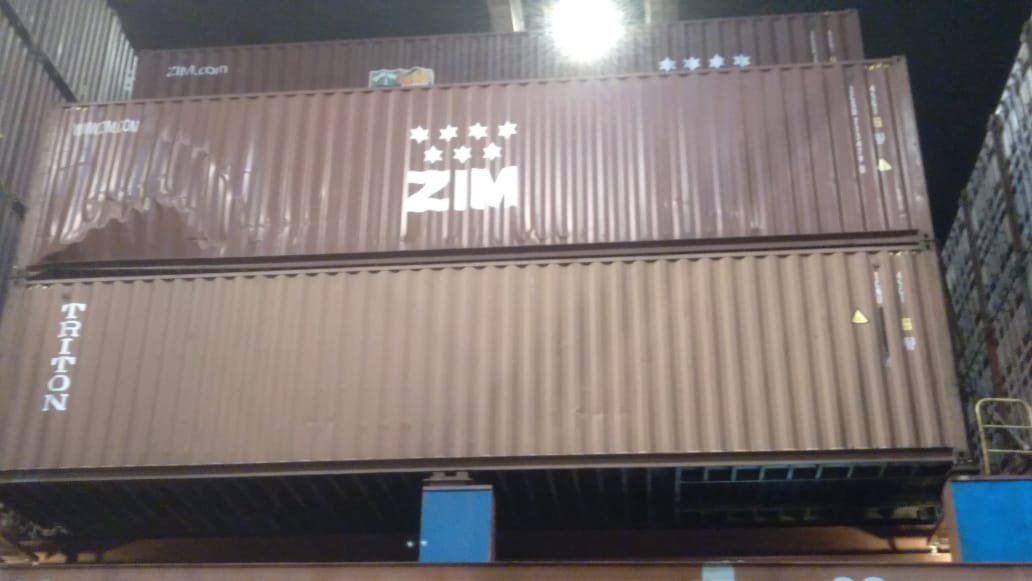bulged: (20, 150, 256, 258)
